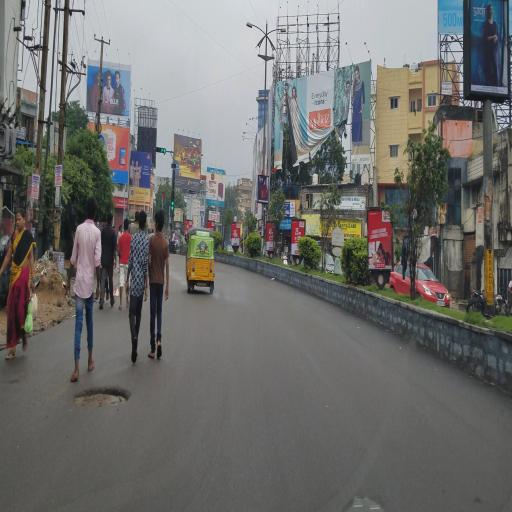street_light_0: (266, 20, 290, 50), (241, 18, 265, 48)
